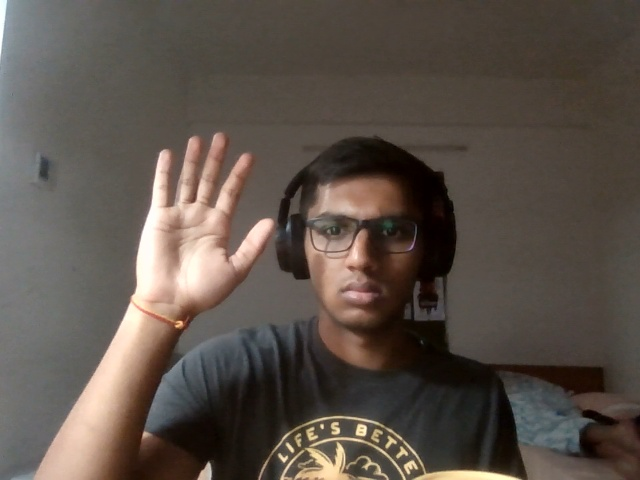hello: (131, 131, 289, 312)
